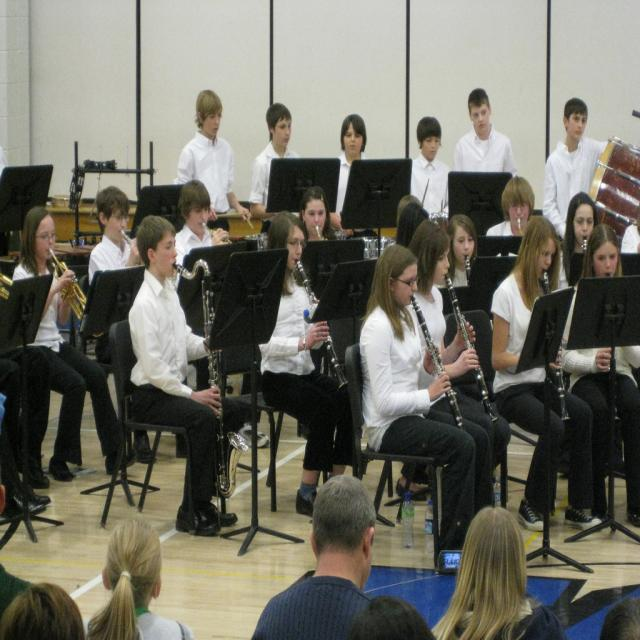clarinet: (403, 292, 466, 442), (440, 274, 500, 422), (295, 260, 350, 388), (540, 269, 573, 424), (604, 271, 622, 420)
drums: (586, 132, 640, 236), (420, 199, 460, 236)
